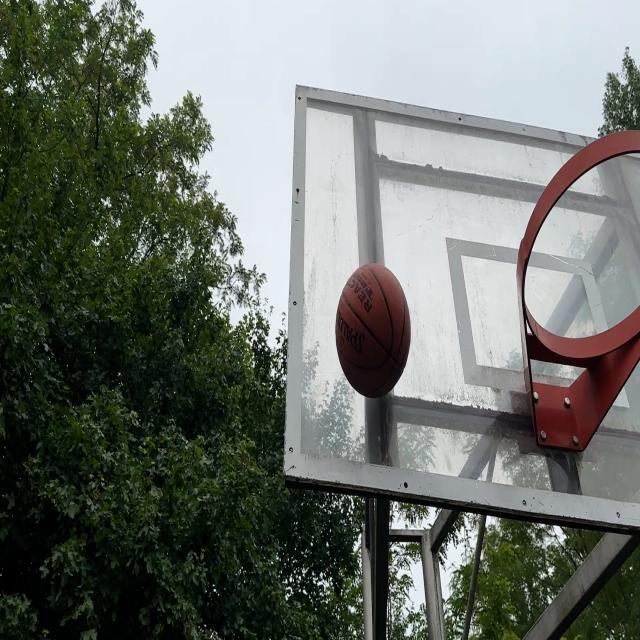rebound_hit: (336, 260, 410, 397)
